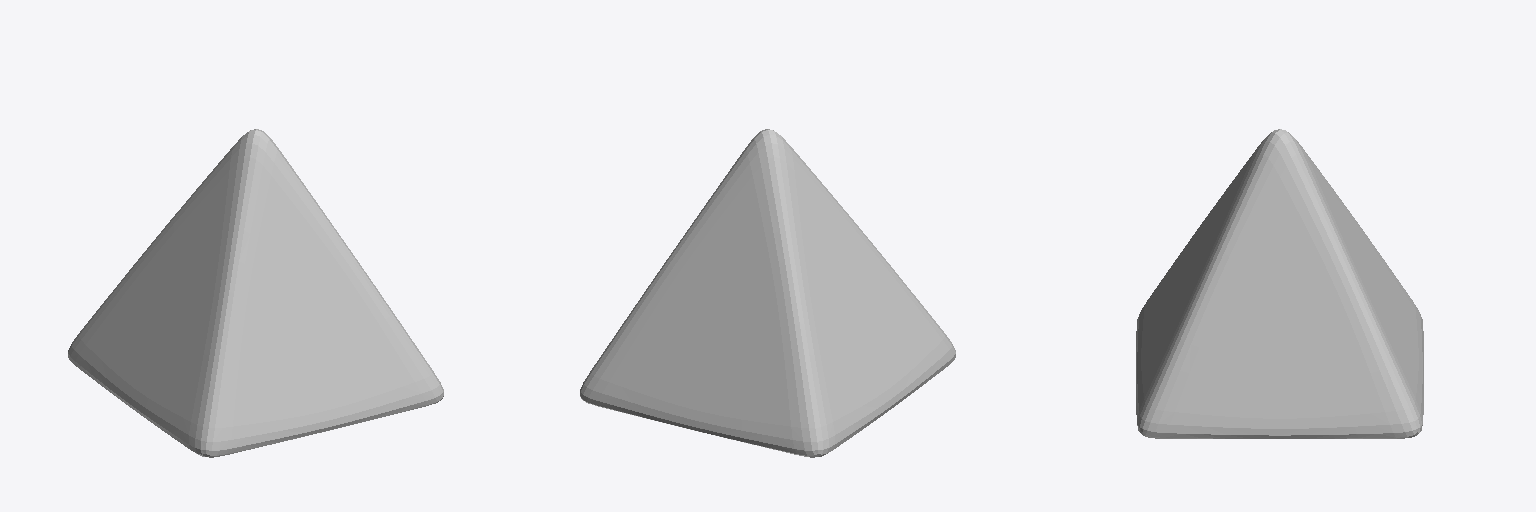
3 views of the same model, side by side, from view 1: azimuth 30°, elevation 25°; view 2: azimuth 150°, elevation 25°; view 3: azimuth 270°, elevation 25° (orthographic).
Visible parts, largest first — view 1: Subdivision_Surface; view 2: Subdivision_Surface; view 3: Subdivision_Surface.
Part boxes in pixels (x1,y1,x2,y2): Subdivision_Surface: (68,129,443,457); Subdivision_Surface: (580,129,955,457); Subdivision_Surface: (1136,129,1423,438).
Size of the model in its own units: 1.91 by 1.85 by 1.91.